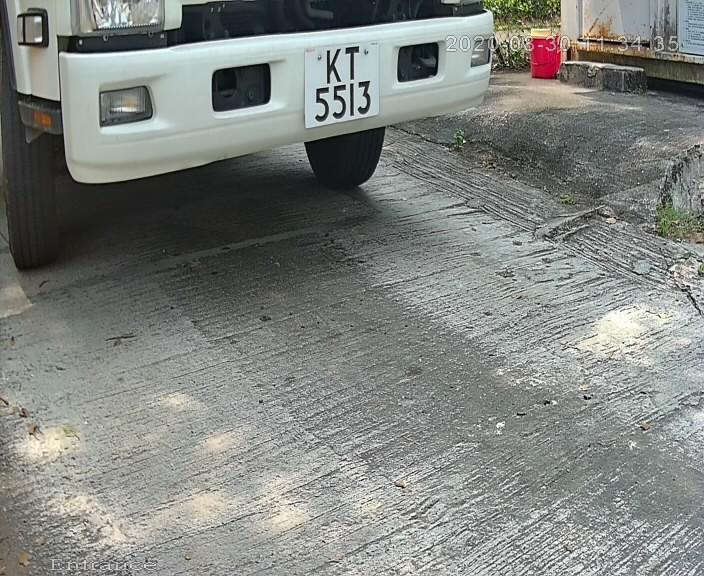License Plate: (274, 24, 390, 152)
